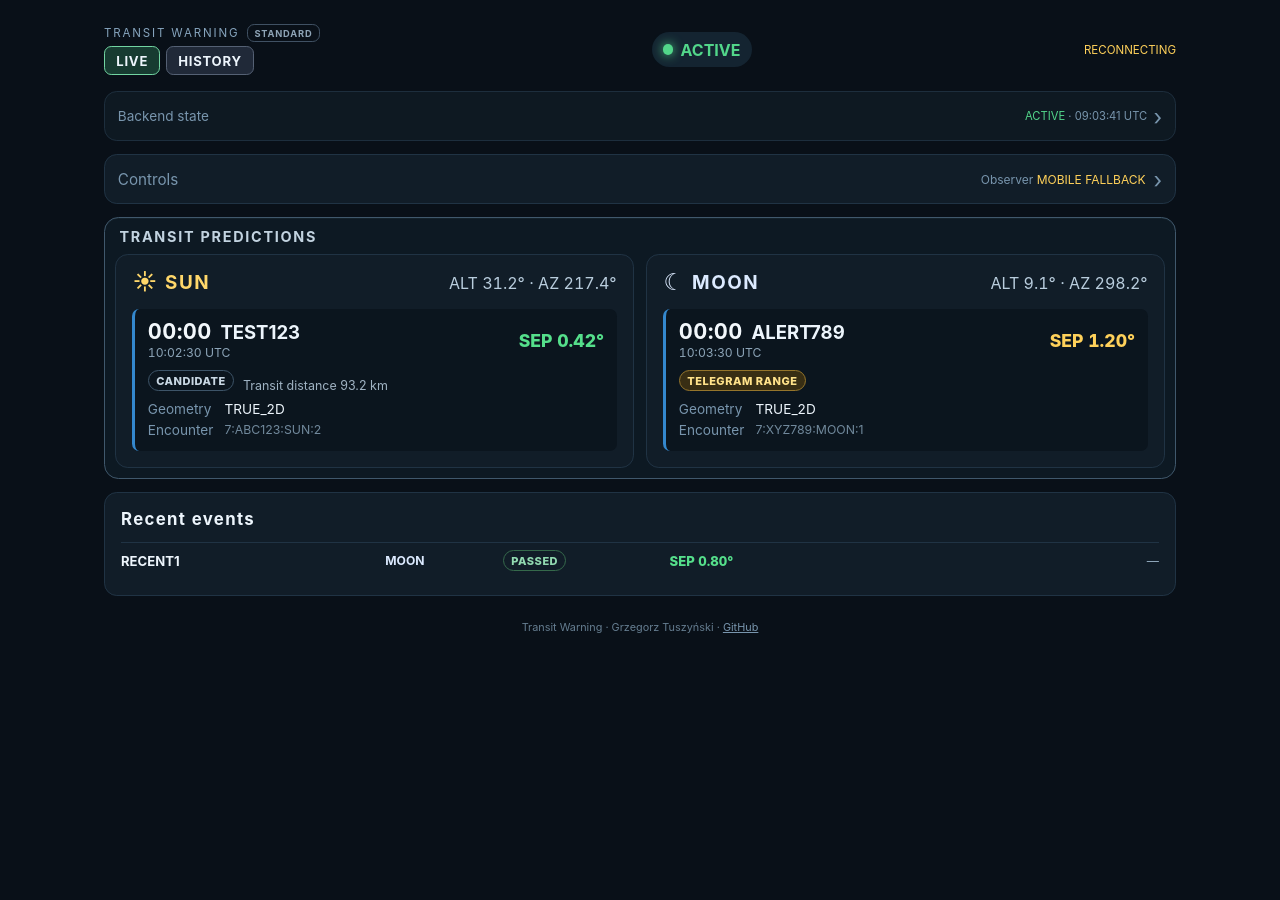
STANDARD final controls › keeps authoritative STATIC concise while collapsed
This screenshot has width=1280, height=900.
Expected: the element with id "controls-observer-summary" is shown, [981,172,1146,187]
Click the button "Controls Observer MOBILE FALLBACK ›" at (148, 179), box [105,155,1175,203]
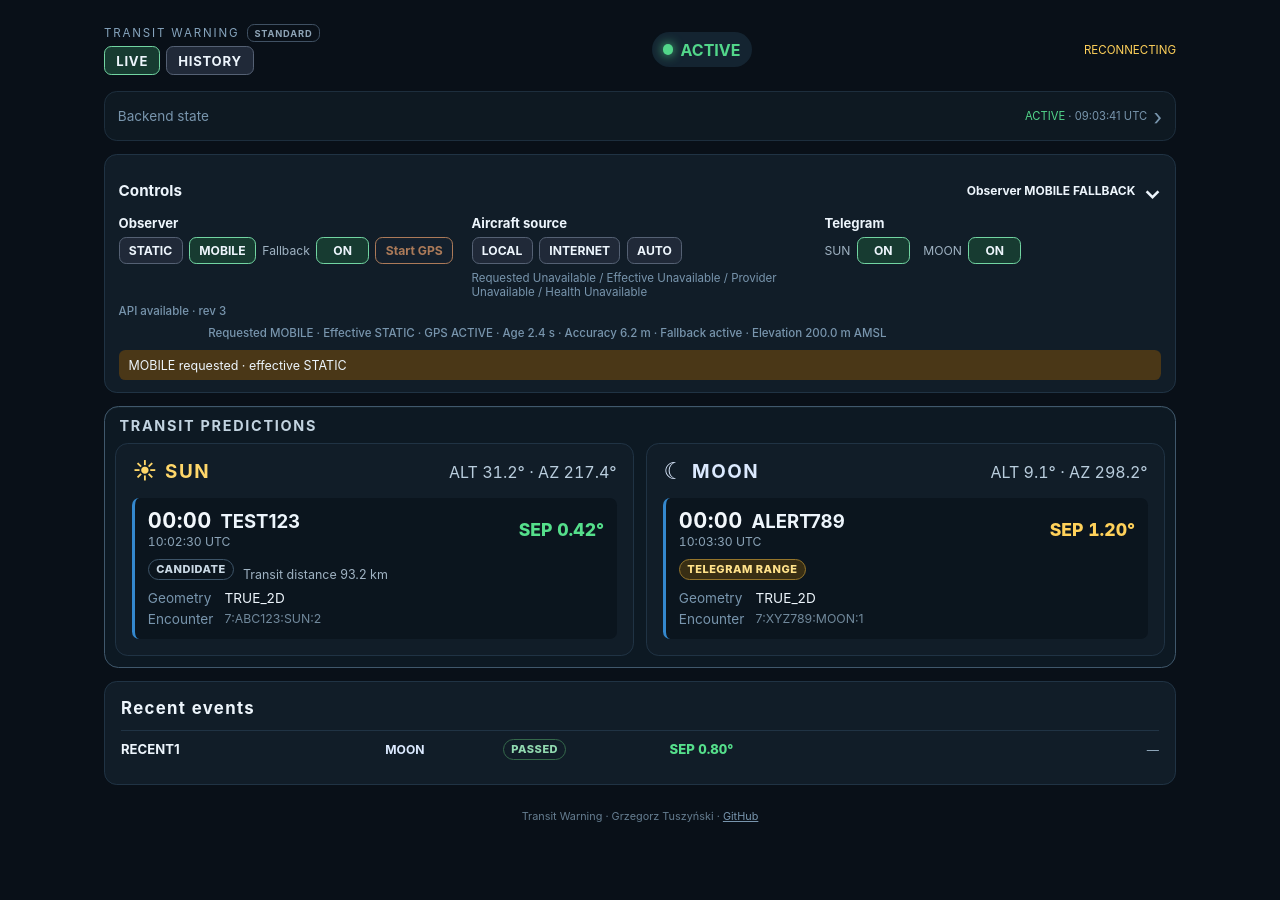
Expected: the button "Start GPS" is shown, [376,237,453,264]
